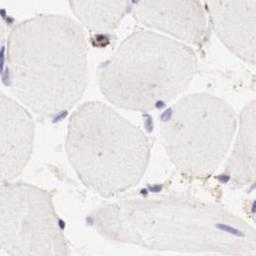nucleus: (215, 222, 246, 239), (1, 66, 12, 87), (143, 113, 154, 132), (52, 111, 68, 124), (159, 107, 172, 122), (245, 180, 256, 194), (148, 184, 164, 192), (86, 215, 95, 227), (58, 217, 66, 230), (140, 187, 149, 197), (4, 16, 15, 24), (1, 43, 4, 71), (222, 175, 231, 183), (156, 101, 166, 108), (130, 1, 140, 7), (252, 200, 256, 212), (1, 9, 7, 16), (105, 32, 109, 38)
positive_cell: (89, 33, 114, 48), (215, 174, 229, 183)
